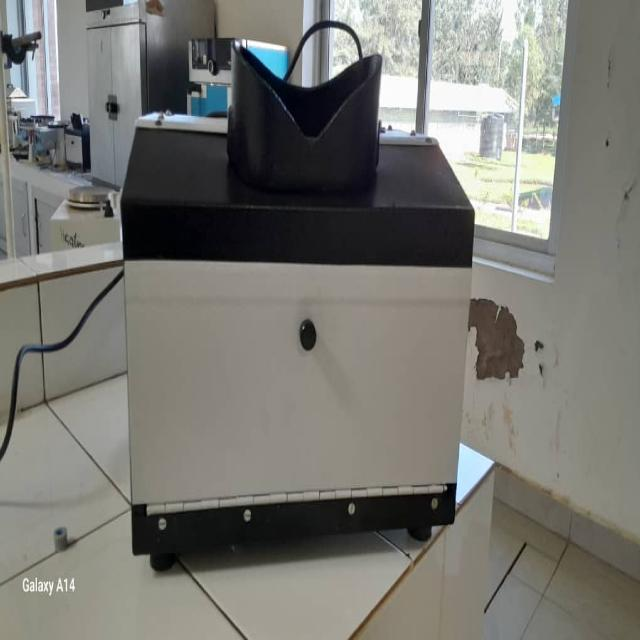U.V Cabinet: (122, 42, 474, 558)
